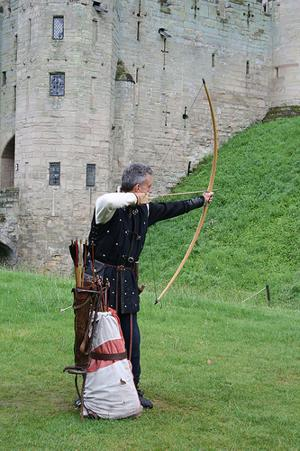person: (86, 159, 214, 407)
